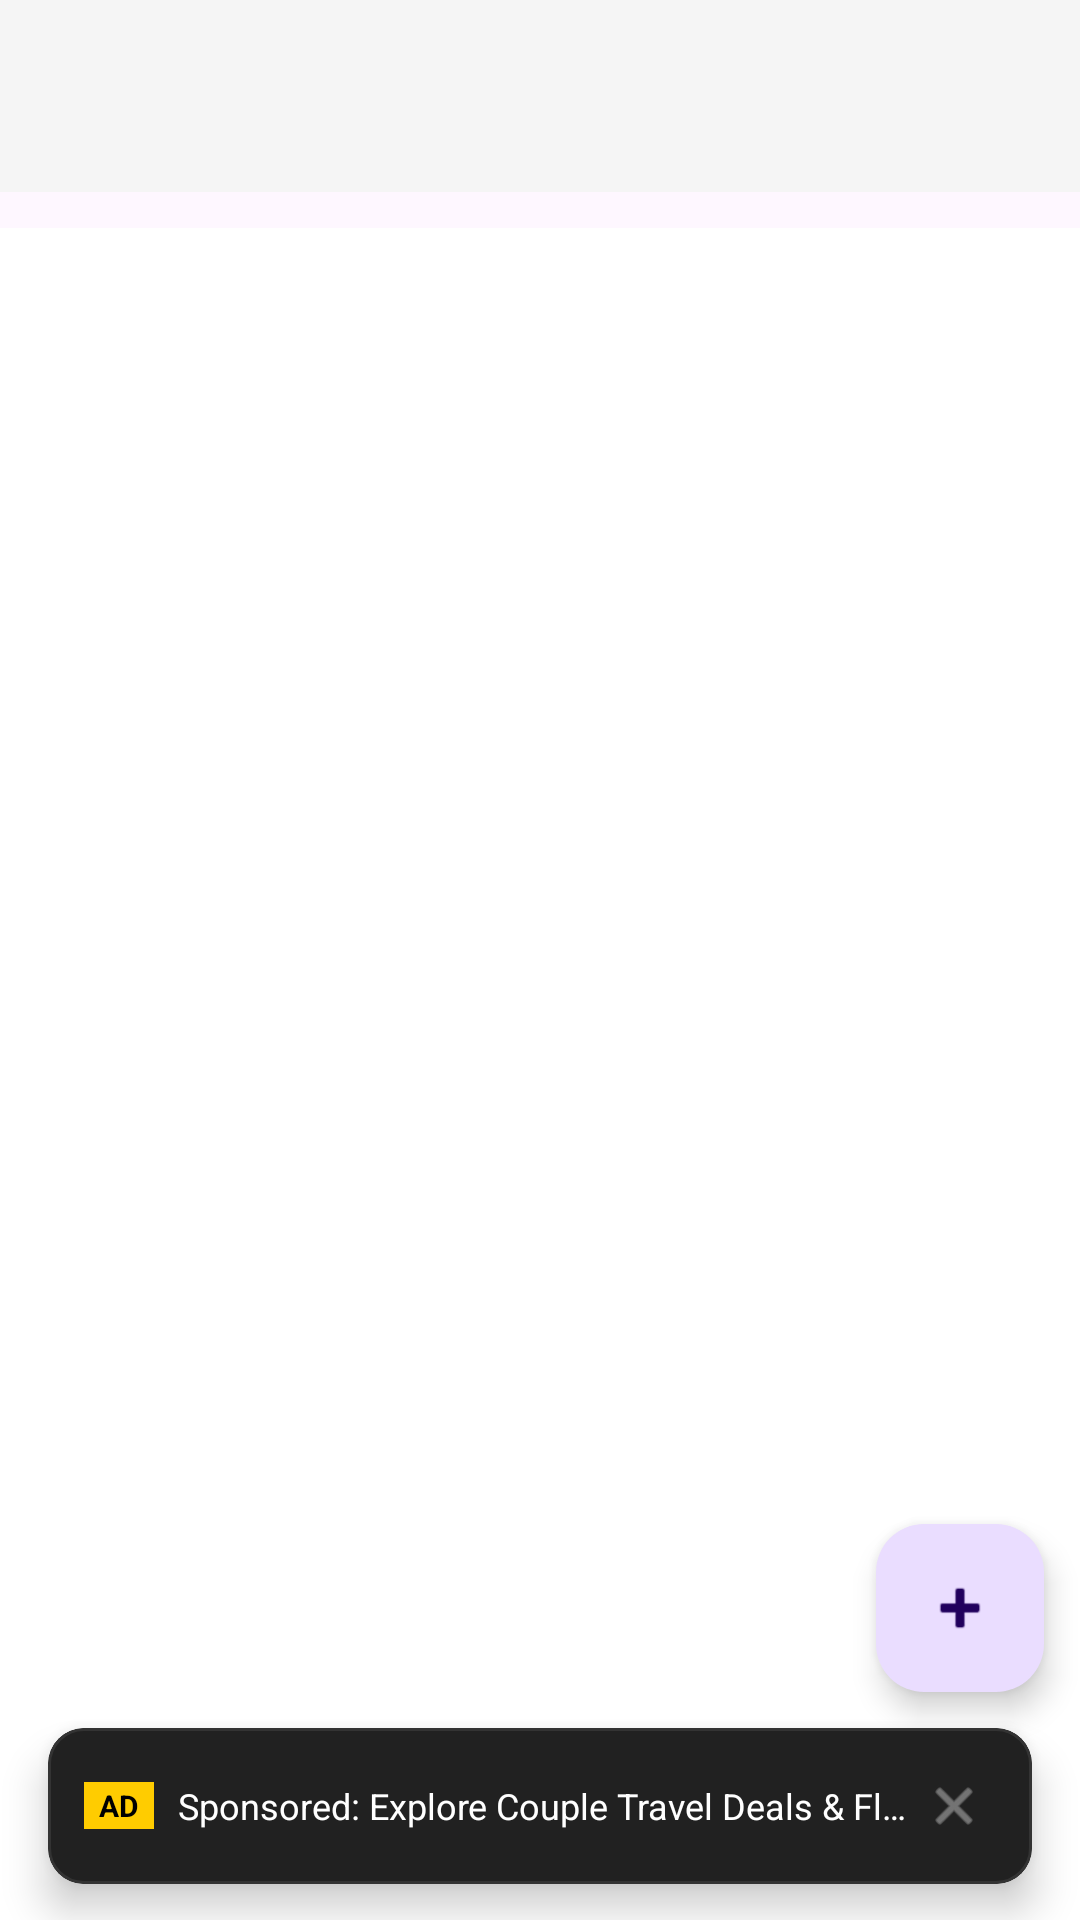

Point at icon controls on the screen. Image size 1080*1920, points as [x,y].
Add item: [960,1608]
Close Ad: [954,1806]
